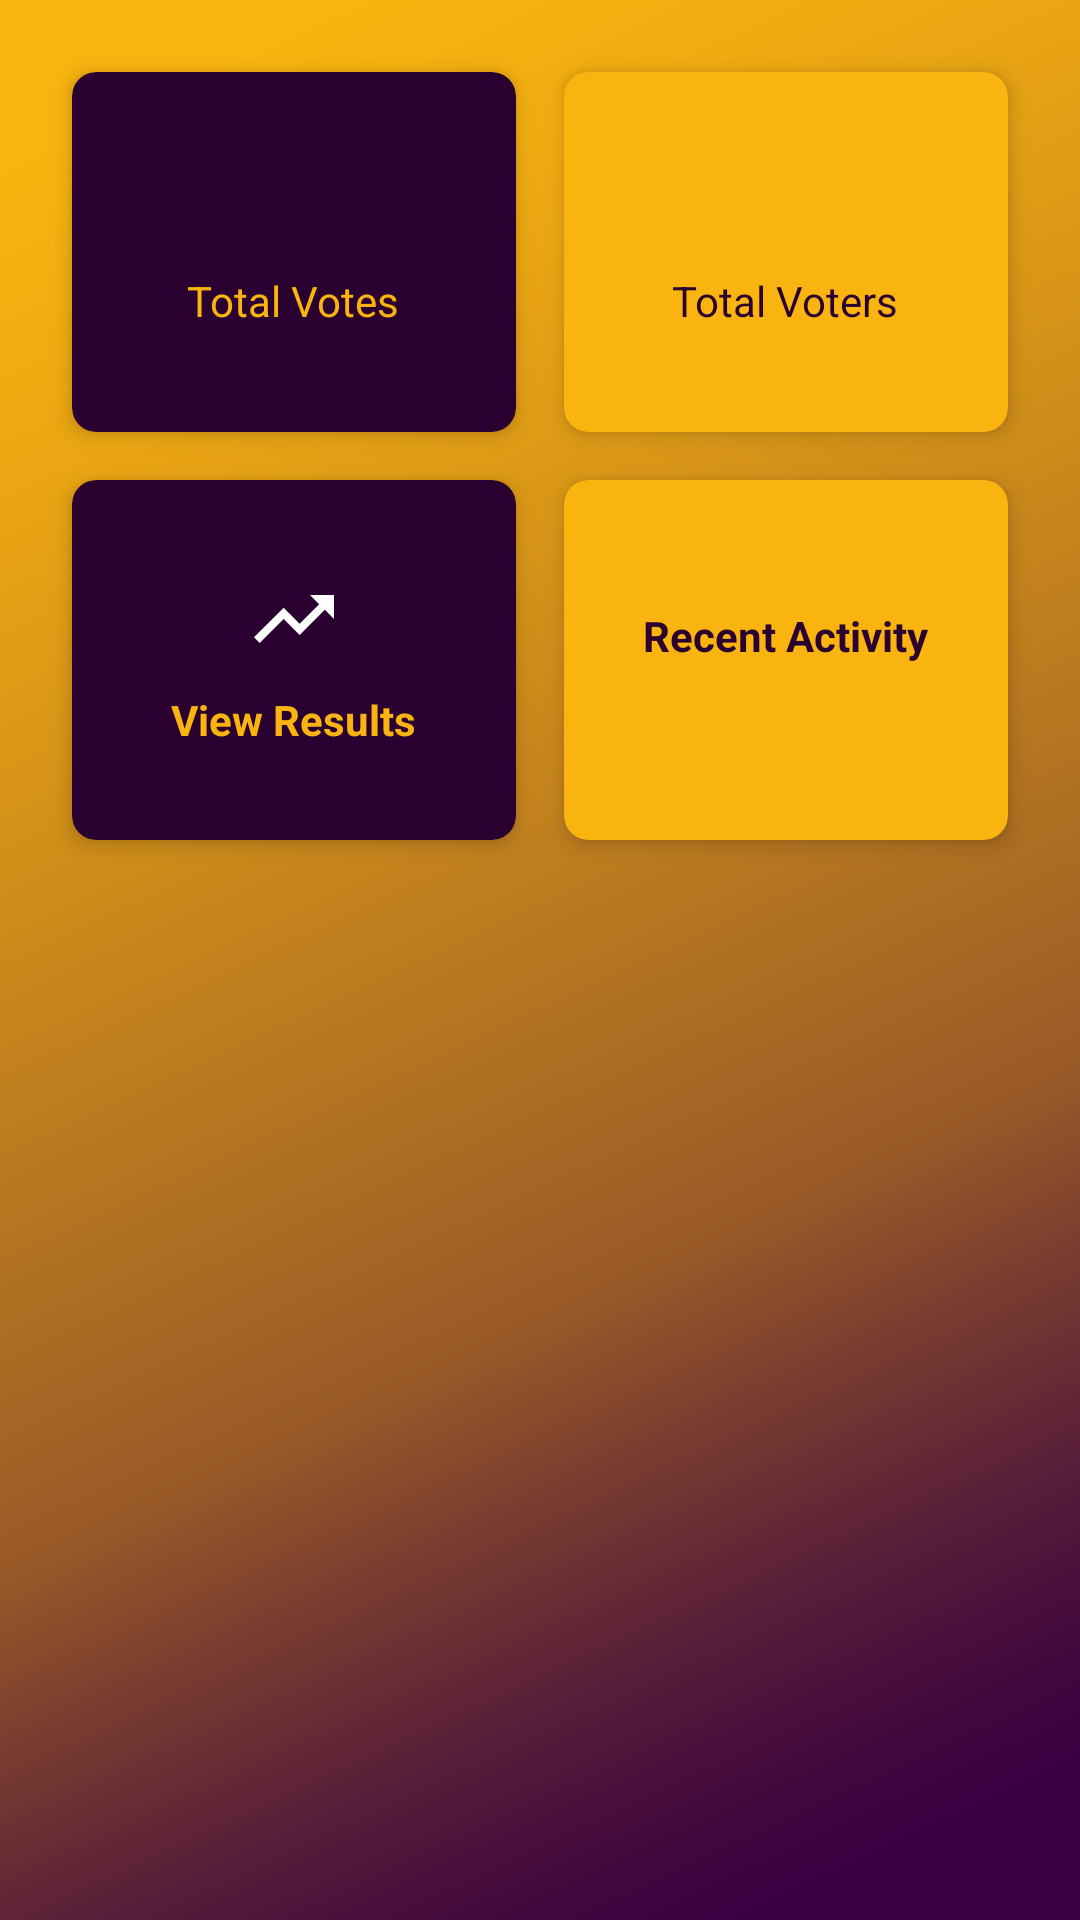

Point at icon controls on the screen. Image size 1080w x 1920h, points as [x,y].
trending up: [294,619]
